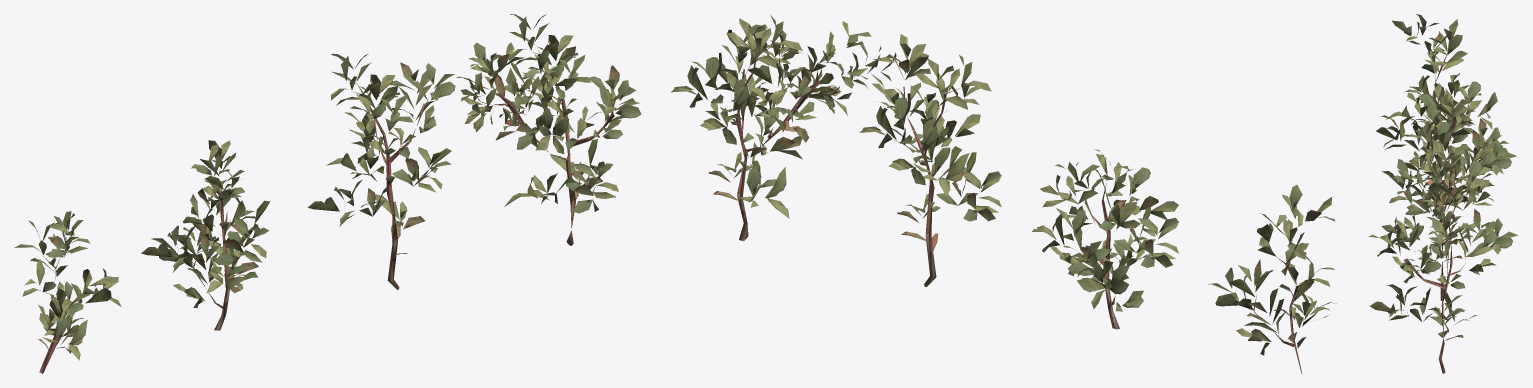
The model's file is shrub_04_lod.glb.
3 views of the same model, side by side, from view 1: azimuth 30°, elevation 25°; view 2: azimuth 150°, elevation 25°; view 3: azimuth 270°, elevation 25° (orthographic). The views are drawn at different scales.
Visible parts, largest first — view 1: shrub_04; view 2: shrub_04; view 3: shrub_04.
Boxes of the visible parts, box(x1,y1,x2,y2) form: shrub_04: box(14, 14, 641, 373); shrub_04: box(671, 14, 1336, 373); shrub_04: box(1368, 14, 1518, 373).
Bounding box in the file's own units: 0.5837 × 0.2192 × 0.1461.
Materials: 1 (1 with a texture image).
